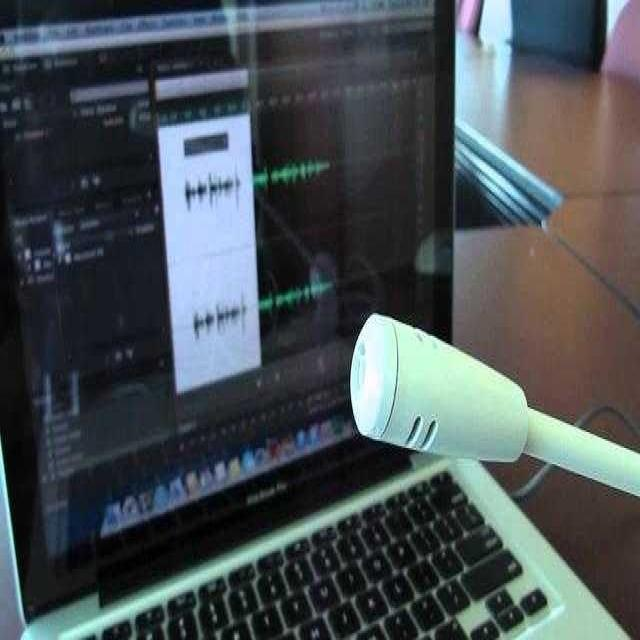microphone: (354, 310, 638, 516)
